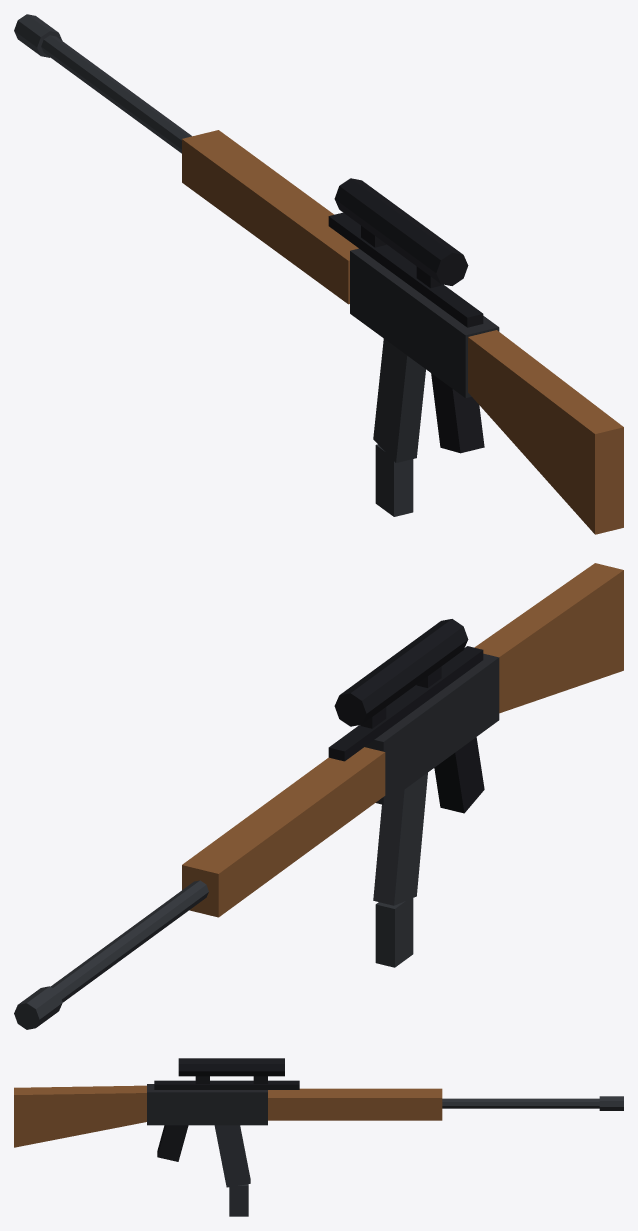
The model's file is wpn_marksman.glb.
The picture shows the model from 3 angles, top to bottom: view 1: azimuth 30°, elevation 25°; view 2: azimuth 150°, elevation 25°; view 3: azimuth 270°, elevation 25°; orthographic projection. The views are drawn at different scales.
Visible parts, largest first — view 1: wpn_marksman__body, wpn_marksman__att_extmag; view 2: wpn_marksman__body, wpn_marksman__att_extmag; view 3: wpn_marksman__body, wpn_marksman__att_extmag.
Part boxes in pixels (x1,y1,x2,y2): wpn_marksman__body: (14,14,623,534); wpn_marksman__att_extmag: (375,444,413,516); wpn_marksman__body: (14,563,623,1029); wpn_marksman__att_extmag: (375,898,413,967); wpn_marksman__body: (14,1058,623,1187); wpn_marksman__att_extmag: (229,1184,248,1216).
Size of the model in its own units: 0.046 by 0.355 by 1.26.
